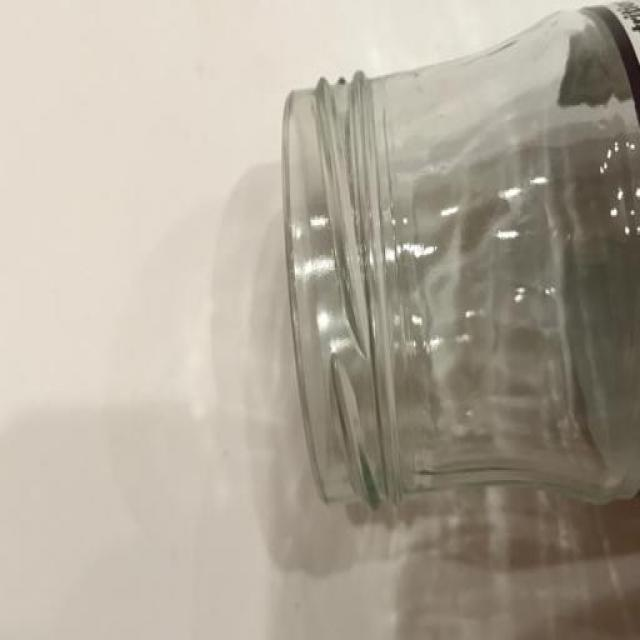Waste: (284, 2, 640, 508)
